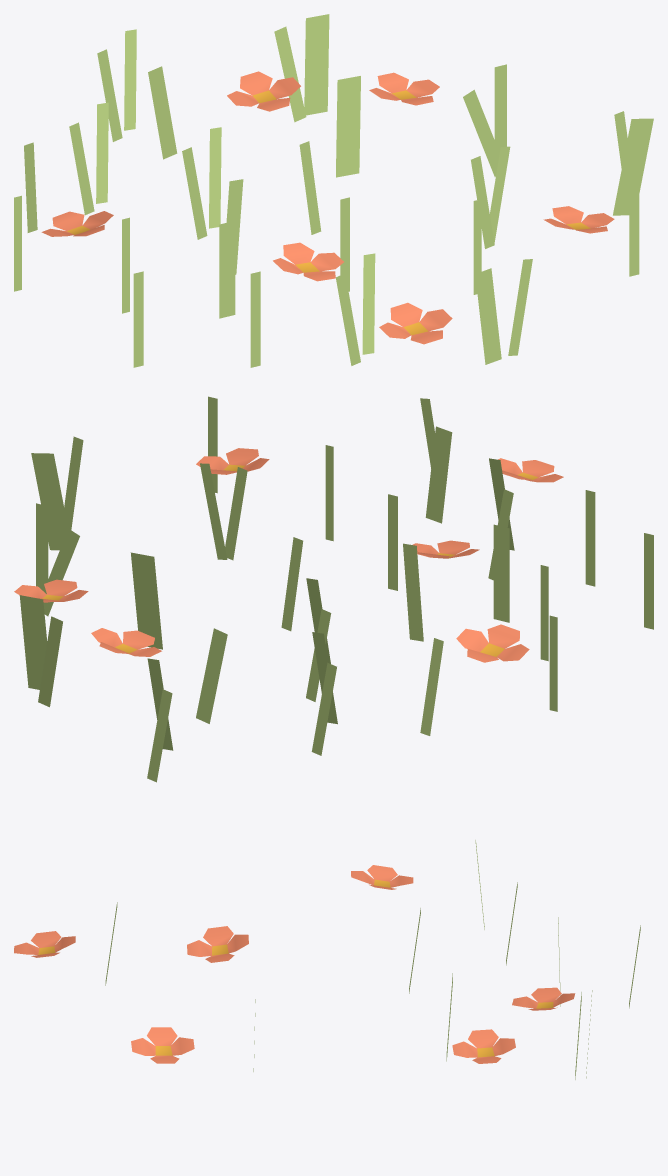
File: M_Plants_Flowers_6.fbx
3 renders of one model, top to bottom at view 1: azimuth 30°, elevation 25°; view 2: azimuth 150°, elevation 25°; view 3: azimuth 270°, elevation 25°, orthographic. The views are drawn at different scales.
Visible parts, largest first — view 1: M_Plants_Flowers_6; view 2: M_Plants_Flowers_6; view 3: M_Plants_Flowers_6.
Part boxes in pixels (x1=…): M_Plants_Flowers_6: x1=14, y1=14, x2=653, y2=367; M_Plants_Flowers_6: x1=14, y1=396, x2=653, y2=782; M_Plants_Flowers_6: x1=14, y1=840, x2=640, y2=1079.
Size of the model in its own units: 1.46 by 0.277 by 1.53.
